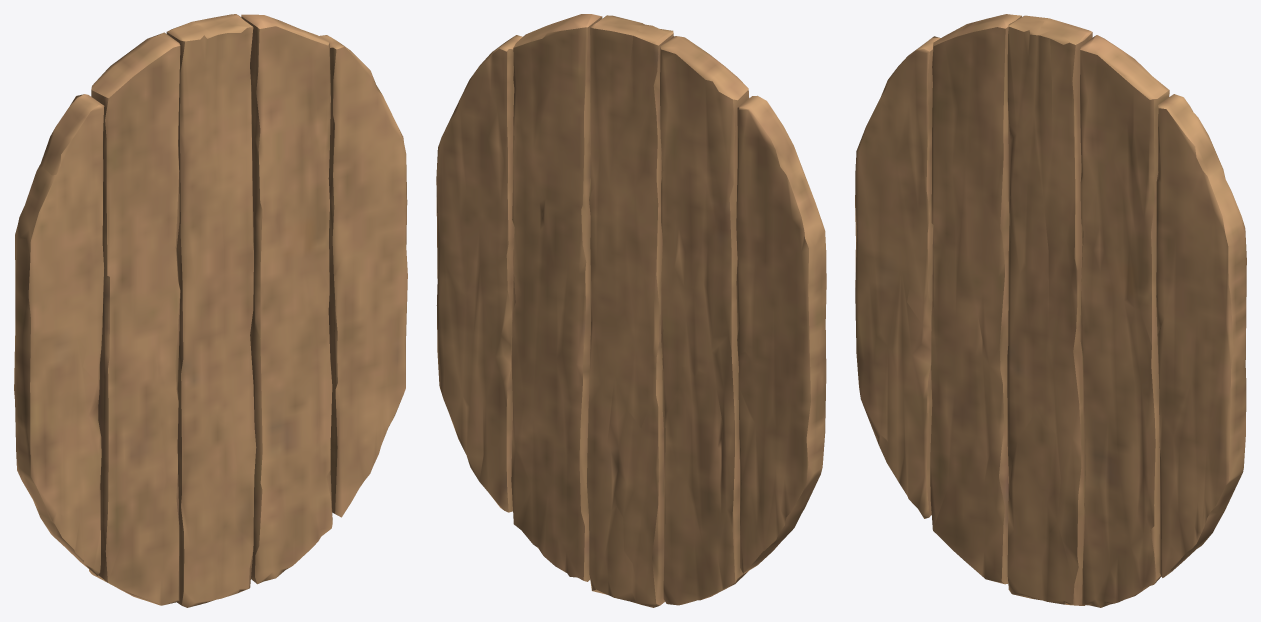
Rendered from TrophyWallBP_C.glb.
3 views of the same model, side by side, from view 1: azimuth 30°, elevation 25°; view 2: azimuth 150°, elevation 25°; view 3: azimuth 330°, elevation 25° (orthographic).
Parts seen in each view (by area): view 1: SM_TrophyHeadBase; view 2: SM_TrophyHeadBase; view 3: SM_TrophyHeadBase.
Part boxes in pixels (x1=…): SM_TrophyHeadBase: x1=14, y1=14, x2=407, y2=607; SM_TrophyHeadBase: x1=436, y1=14, x2=826, y2=607; SM_TrophyHeadBase: x1=855, y1=14, x2=1246, y2=607.
Size of the model in its own units: 1.21 by 1.73 by 0.1095.
Materials: 1 (1 with a texture image).
